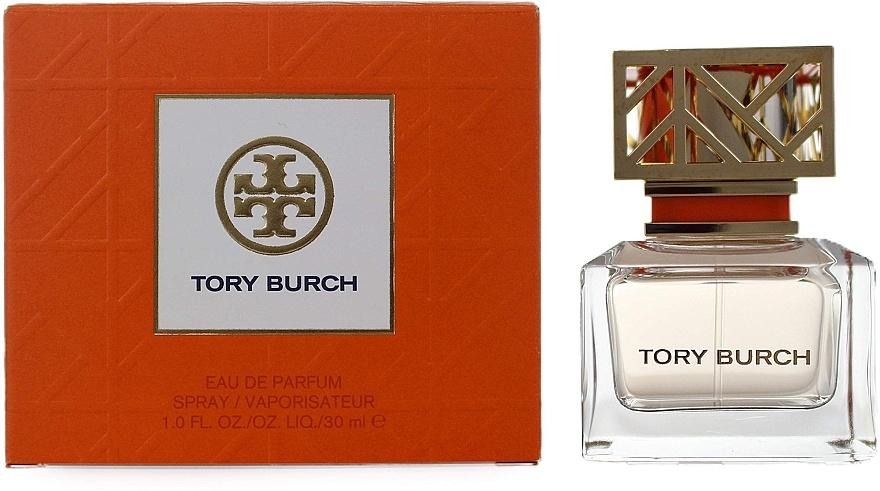TORY-BURCH: (215, 135, 334, 255)
